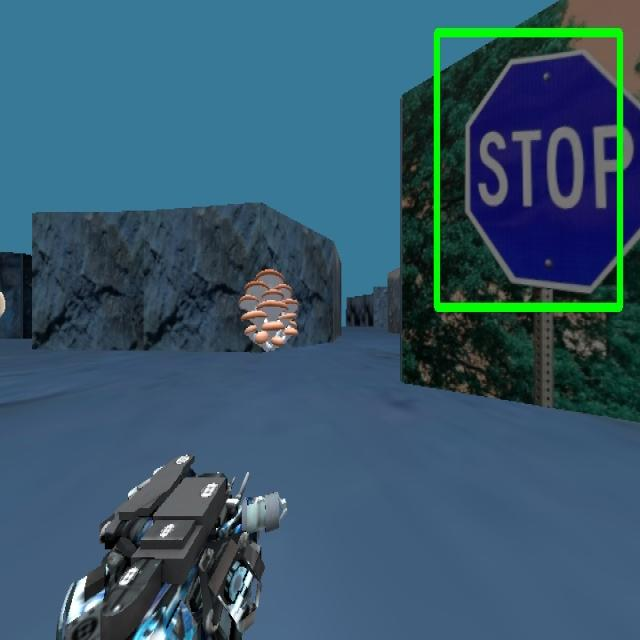Mushroom: (238, 267, 300, 352)
Stop_Sign: (432, 24, 625, 313)
